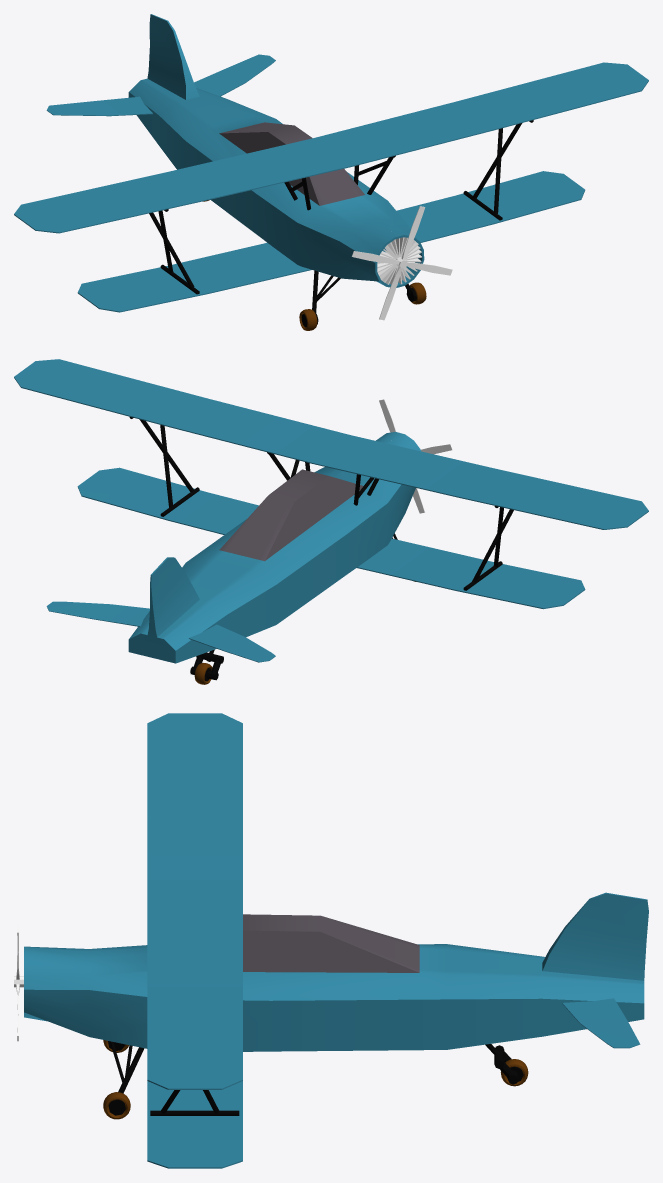
3 views of the same model, one above another, from view 1: azimuth 30°, elevation 25°; view 2: azimuth 150°, elevation 25°; view 3: azimuth 270°, elevation 25° (orthographic). The views are drawn at different scales.
Visible parts, largest first — view 1: Symmetry.3; view 2: Symmetry.3; view 3: Symmetry.3.
Boxes of the visible parts, bbox=[...] form: Symmetry.3: bbox=[14, 14, 648, 330]; Symmetry.3: bbox=[14, 359, 648, 684]; Symmetry.3: bbox=[14, 713, 648, 1168].
Size of the model in its own units: 321 by 76.58 by 230.
